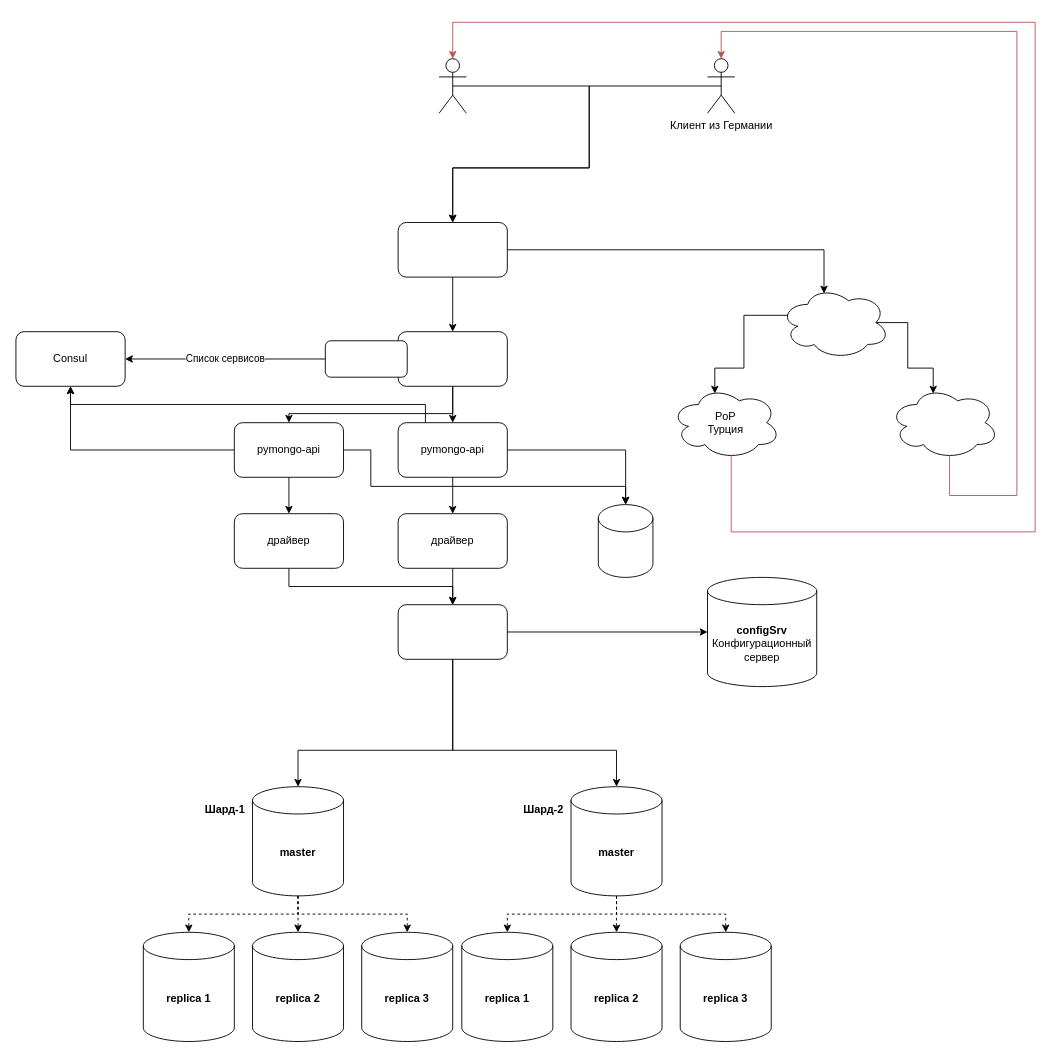
This 1058x1057 diagram has some shape labels left out. The centre of each missing label's shape, as x and y in pixels:
"API Gateway" belongs at pixel 452 358.
"CDN" belongs at pixel 834 322.
"consul_kv" belongs at pixel 365 358.
"mongos (router)" belongs at pixel 452 631.
"PoP Германия" belongs at pixel 944 422.
"Redis" belongs at pixel 625 540.
"Клиент из Турции" belongs at pixel 452 85.
"Сайт" belongs at pixel 452 249.
